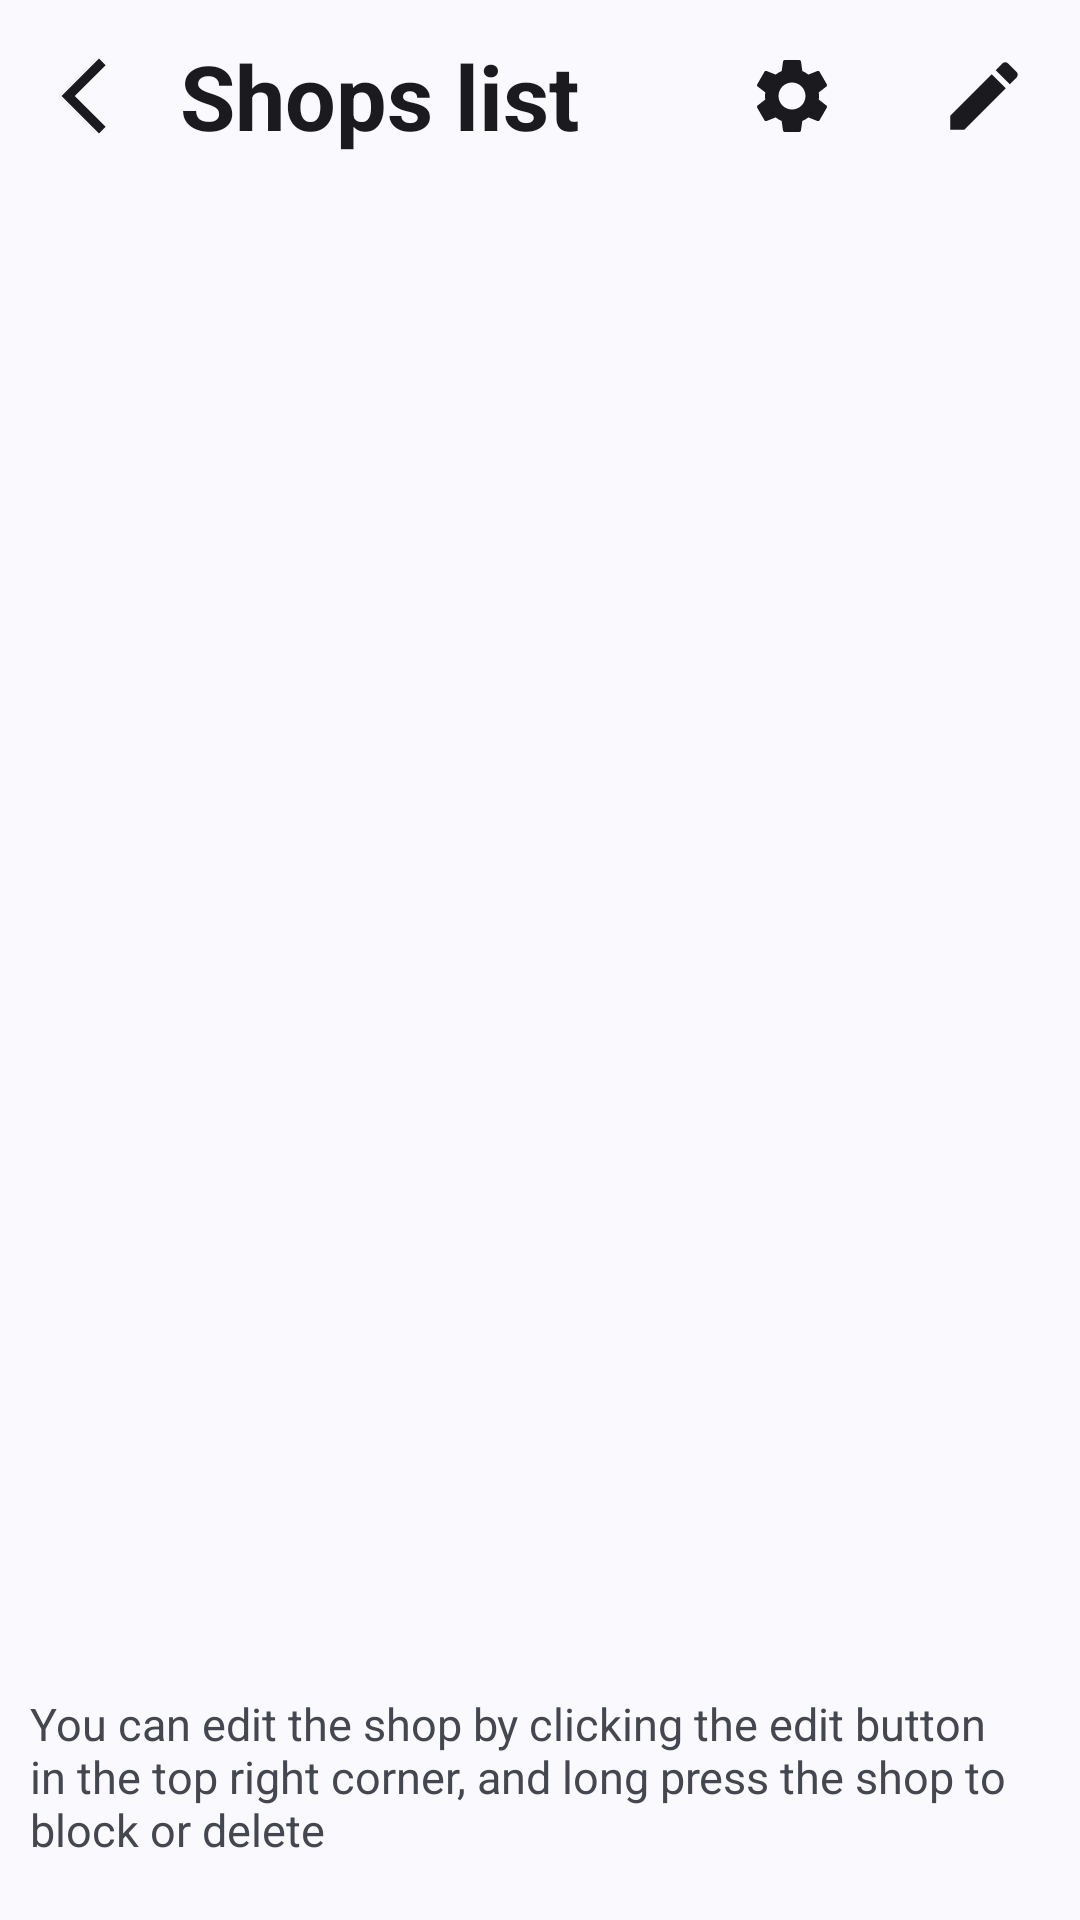

Icon click points for this 1080*1920 phone screenshot, format (x,y):
Selection Settings: (792,96)
